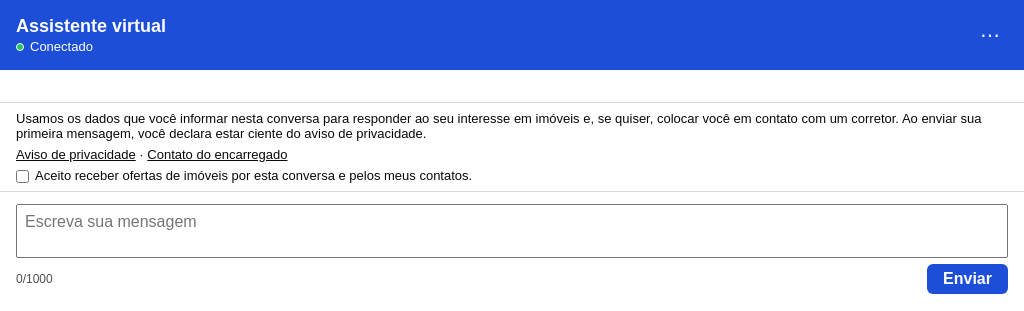
Test case: Conversa › durante a espera de muitas_tentativas o "Reenviar" fica desabilitado
This screenshot has width=1024, height=311.
In the text box labelled "mensagem": (512, 231) [16,204,1008,258], type "Oi"
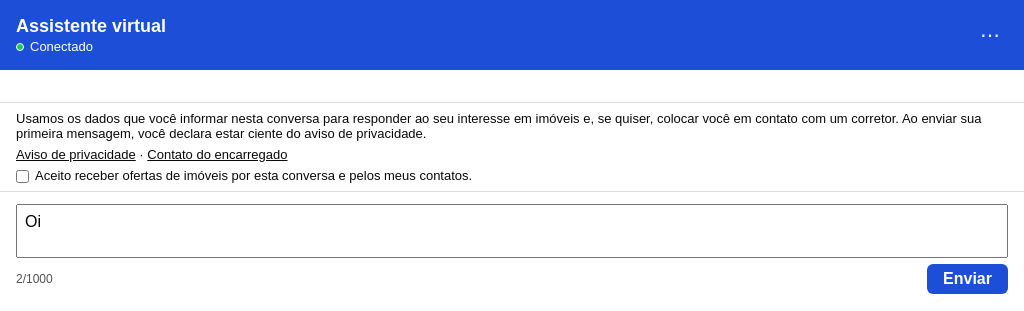
Click the button "Enviar": (968, 279) [927,264,1008,294]
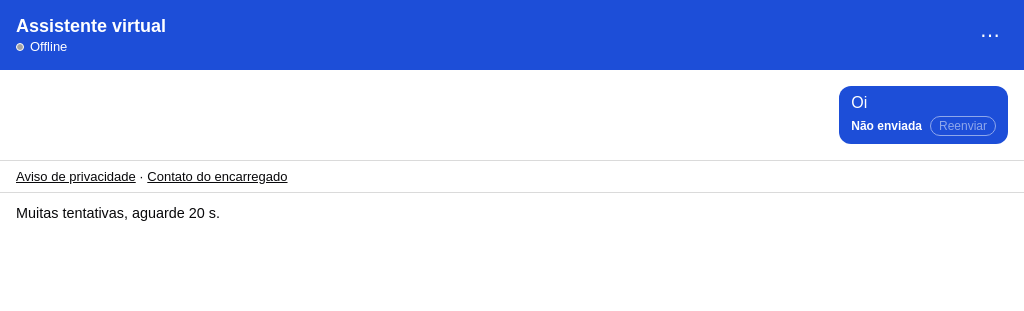
Expected: the button "Reenviar" is disabled, [930,116,996,136]
